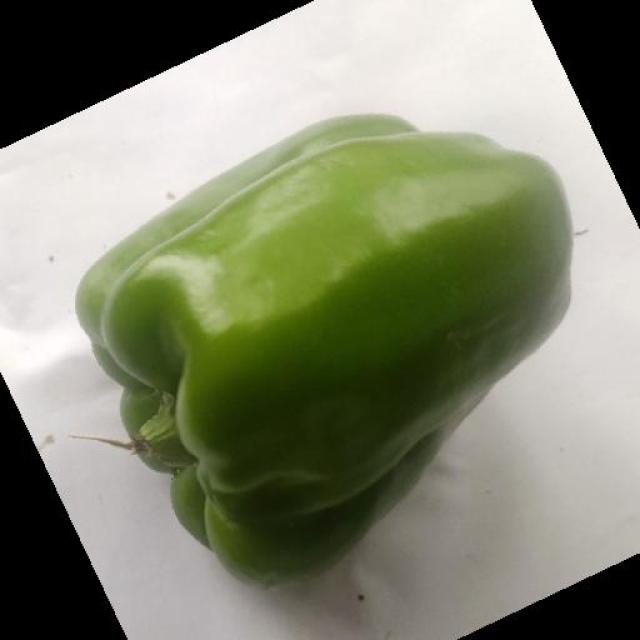Fresh_Capsicum: (122, 92, 595, 503)
